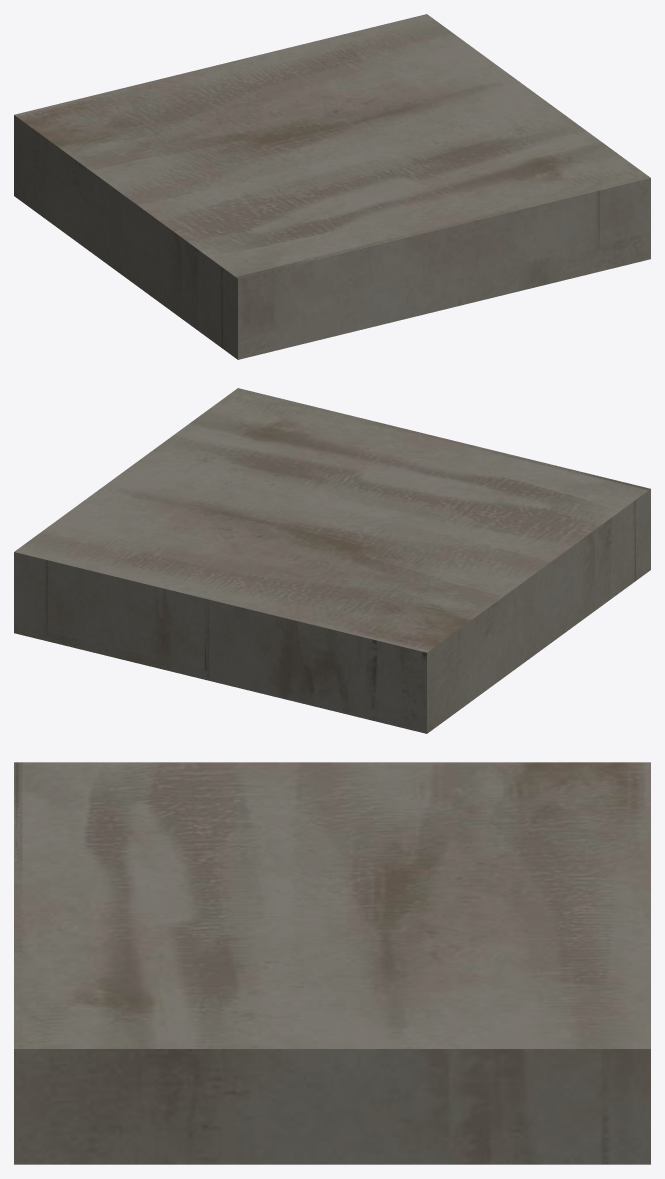
Rendered from ceiling_01.fbx.
3 views of the same model, one above another, from view 1: azimuth 30°, elevation 25°; view 2: azimuth 150°, elevation 25°; view 3: azimuth 270°, elevation 25° (orthographic). The views are drawn at different scales.
Visible parts, largest first — view 1: Box113; view 2: Box113; view 3: Box113.
Part boxes in pixels (box(x1,y1,x2,y2)): Box113: box(14, 14, 650, 359); Box113: box(14, 388, 650, 733); Box113: box(14, 762, 650, 1164).
Bounding box in the file's own units: 596 × 112 × 560.
